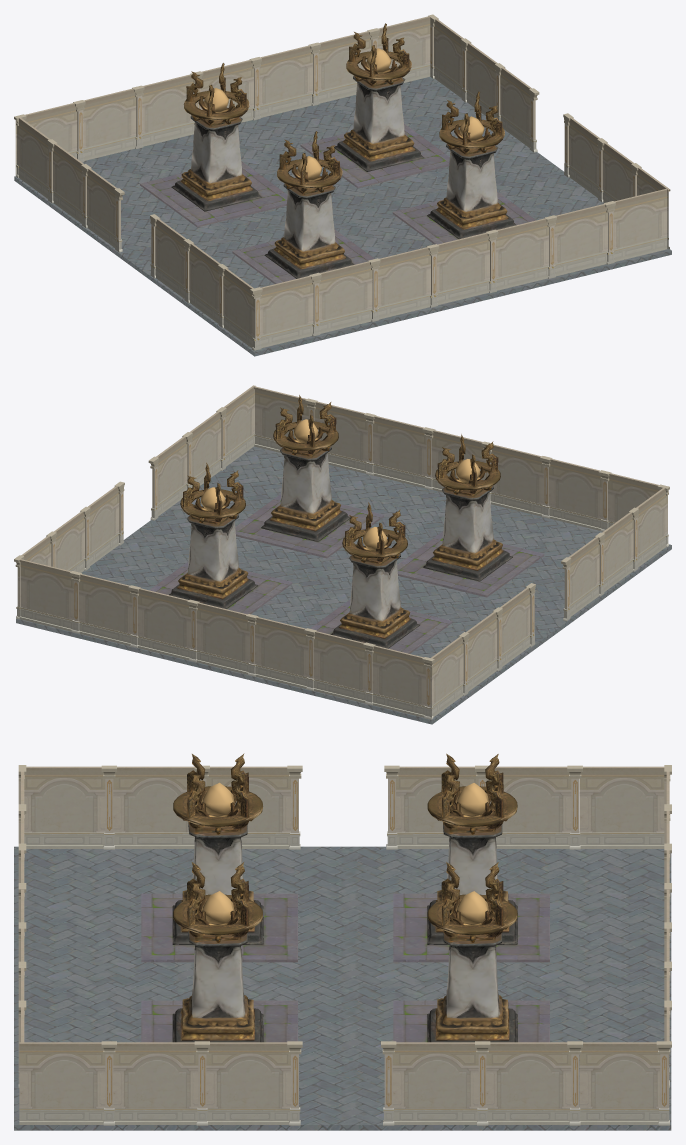
File: map.glb
The picture shows the model from 3 angles, top to bottom: view 1: azimuth 30°, elevation 25°; view 2: azimuth 150°, elevation 25°; view 3: azimuth 270°, elevation 25°; orthographic projection. The views are drawn at different scales.
Visible parts, largest first — view 1: Annex's Golden Mosaic - Room A.001, Foundations of Stone: Grand Design.008, tripo_node_cdafef04-10a6-4ad6-bb96-be0745b84d17.001, Foundations of Stone: Path of Cultivation.003; view 2: Annex's Golden Mosaic - Room A.001, Foundations of Stone: Grand Design.008, tripo_node_cdafef04-10a6-4ad6-bb96-be0745b84d17.001, Foundations of Stone: Path of Cultivation.003; view 3: Foundations of Stone: Grand Design.008, Annex's Golden Mosaic - Room A.001, tripo_node_cdafef04-10a6-4ad6-bb96-be0745b84d17.001, Foundations of Stone: Path of Cultivation.003.
Part boxes in pixels (bbox=[...]): Annex's Golden Mosaic - Room A.001: bbox=[14, 14, 670, 350]; Foundations of Stone: Grand Design.008: bbox=[14, 77, 671, 356]; tripo_node_cdafef04-10a6-4ad6-bb96-be0745b84d17.001: bbox=[171, 23, 516, 278]; Foundations of Stone: Path of Cultivation.003: bbox=[140, 123, 535, 283]; Annex's Golden Mosaic - Room A.001: bbox=[14, 385, 669, 719]; Foundations of Stone: Grand Design.008: bbox=[16, 446, 671, 724]; tripo_node_cdafef04-10a6-4ad6-bb96-be0745b84d17.001: bbox=[169, 395, 512, 648]; Foundations of Stone: Path of Cultivation.003: bbox=[149, 494, 544, 653]; Foundations of Stone: Grand Design.008: bbox=[14, 846, 671, 1130]; Annex's Golden Mosaic - Room A.001: bbox=[18, 765, 671, 1125]; tripo_node_cdafef04-10a6-4ad6-bb96-be0745b84d17.001: bbox=[172, 753, 517, 1042]; Foundations of Stone: Path of Cultivation.003: bbox=[141, 893, 549, 1042].
Bounding box in the file's own units: 5.26 × 1.54 × 5.23.
Materials: 76 (76 with a texture image).
